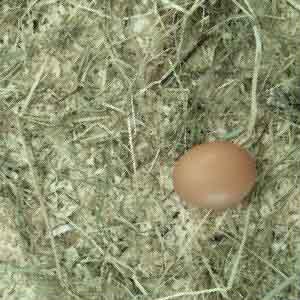egg: (172, 139, 257, 210)
